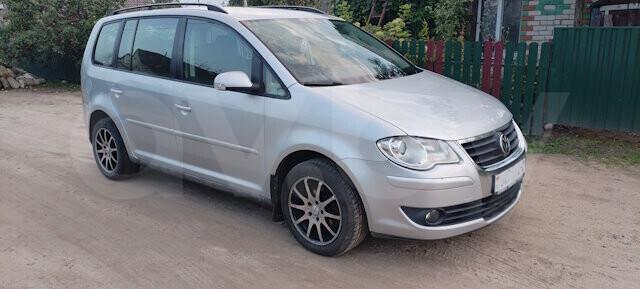Touran_2006-2010: (80, 6, 528, 256)
